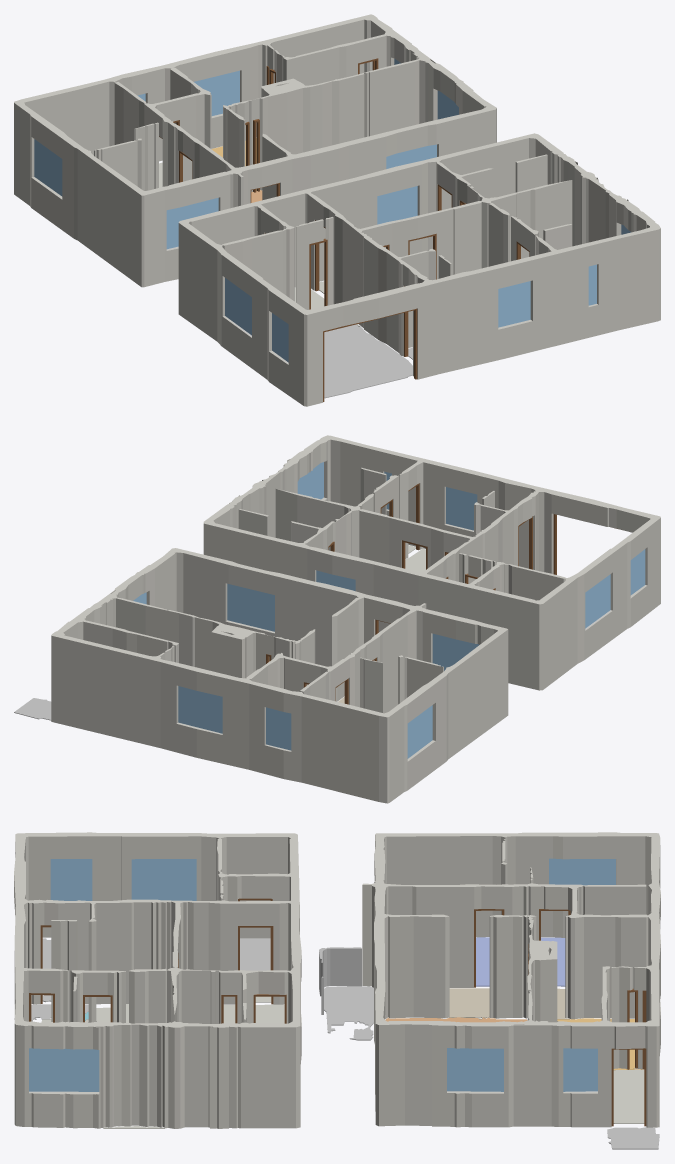
The picture shows the model from 3 angles, top to bottom: view 1: azimuth 30°, elevation 25°; view 2: azimuth 150°, elevation 25°; view 3: azimuth 270°, elevation 25°; orthographic projection. The views are drawn at different scales.
Parts seen in each view (by area): view 1: walls, floor_12_Garage, window_32, window_28, window_22, window_23, window_26, window_29, window_27, window_31, door_20; view 2: walls, window_27, window_22, window_32, window_26, window_21, window_29, window_23, window_30, floor_1_Outdoor, window_31; view 3: walls, window_30, window_29, window_25, floor_0_Outdoor, window_31, railings, window_23, floor_18_Undefined, window_24, floor_7_Entry, floor_4_Bed_Room (+5 smaller).
Boxes of the visible parts, x1,y1,x2,y2 form: walls: [14, 14, 660, 406]; floor_12_Garage: [324, 324, 412, 398]; window_32: [498, 281, 530, 327]; window_28: [377, 186, 417, 224]; window_22: [194, 70, 239, 115]; window_23: [34, 139, 62, 196]; window_26: [166, 197, 218, 249]; window_29: [225, 278, 251, 335]; window_27: [386, 144, 436, 168]; window_31: [272, 313, 288, 362]; door_20: [323, 308, 417, 401]; walls: [51, 435, 660, 803]; window_27: [227, 583, 274, 631]; window_22: [178, 686, 222, 733]; window_32: [446, 487, 477, 530]; window_26: [432, 633, 479, 670]; window_21: [266, 707, 291, 750]; window_29: [585, 574, 610, 628]; window_23: [407, 705, 432, 758]; window_30: [297, 462, 323, 499]; floor_1_Outdoor: [14, 698, 51, 720]; window_31: [630, 549, 645, 595]; walls: [14, 832, 660, 1128]; window_30: [29, 1048, 99, 1091]; window_29: [131, 859, 196, 900]; window_25: [447, 1048, 503, 1091]; floor_0_Outdoor: [324, 986, 373, 1040]; window_31: [50, 859, 92, 900]; railings: [319, 947, 361, 1014]; window_23: [549, 858, 615, 885]; floor_18_Undefined: [613, 1070, 644, 1123]; window_24: [563, 1048, 597, 1091]; floor_7_Entry: [449, 988, 569, 1019]; floor_4_Bed_Room: [476, 937, 565, 986].
Size of the model in its own units: 12.31 by 2.72 by 15.65.
